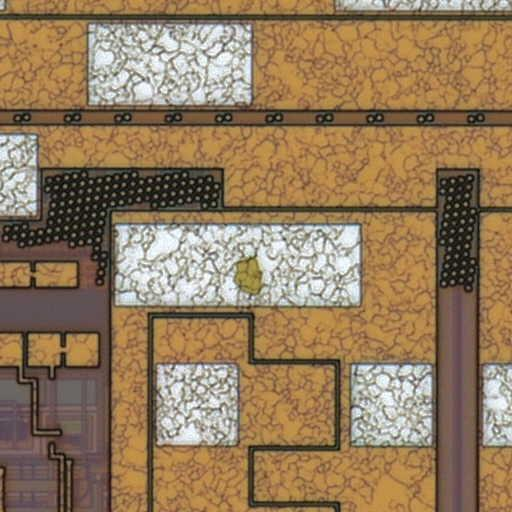BLOCK ETCH: (227, 248, 273, 300)
